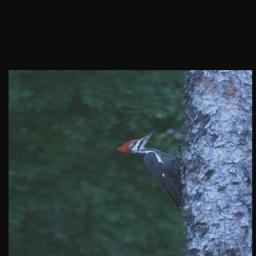Woodpecker: (119, 128, 187, 211)
